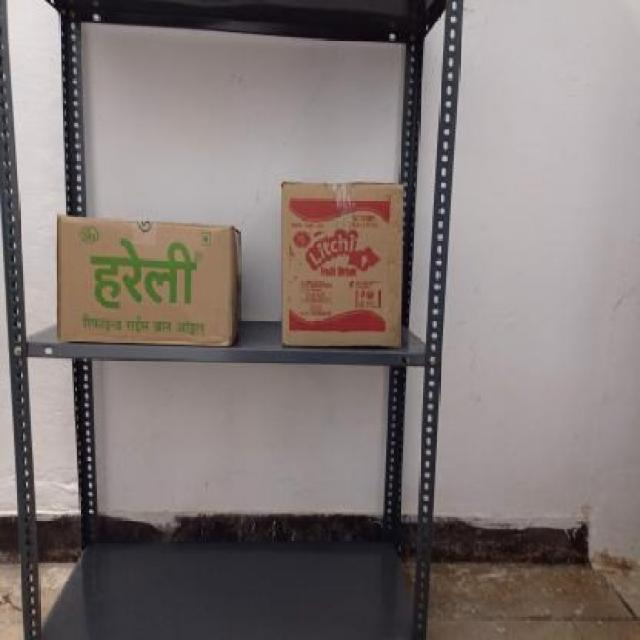box: (55, 215, 234, 348), (279, 180, 405, 349)
